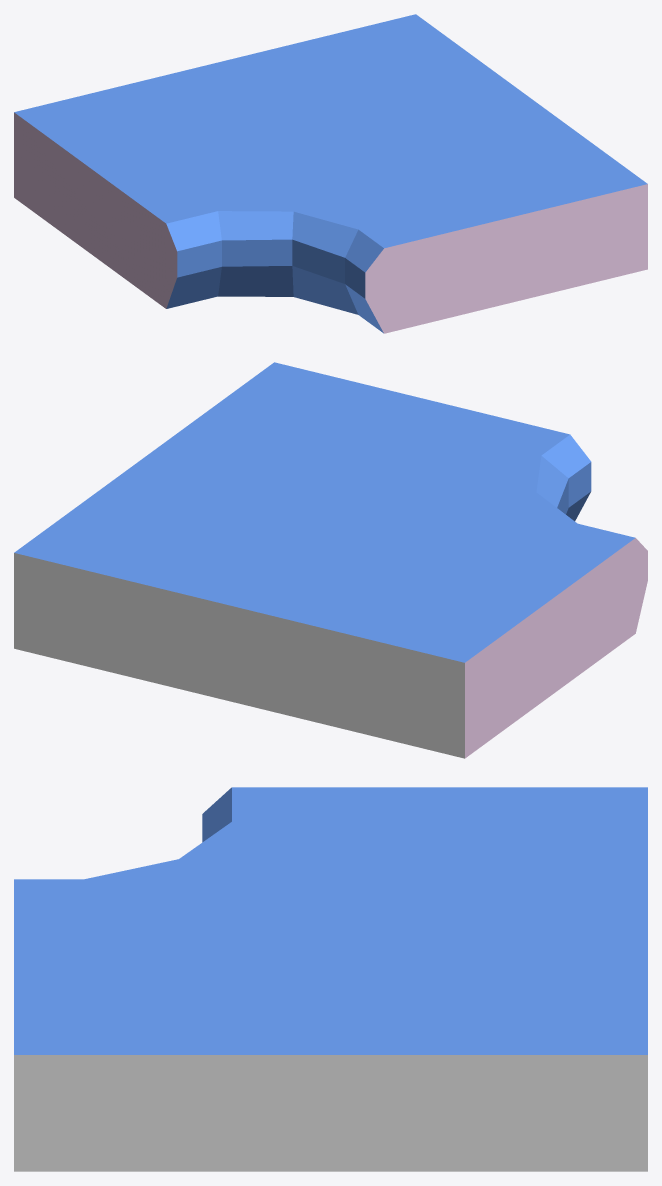
Rendered from Iceberg_Curve_Inner_2x2_1.fbx.
3 renders of one model, top to bottom at view 1: azimuth 30°, elevation 25°; view 2: azimuth 150°, elevation 25°; view 3: azimuth 270°, elevation 25°, orthographic. The views are drawn at different scales.
Parts seen in each view (by area): view 1: Iceberg_Curve_Inner_2x2_1; view 2: Iceberg_Curve_Inner_2x2_1; view 3: Iceberg_Curve_Inner_2x2_1.
Part boxes in pixels (x1,y1,x2,y2): Iceberg_Curve_Inner_2x2_1: (14,14,647,333); Iceberg_Curve_Inner_2x2_1: (14,362,647,758); Iceberg_Curve_Inner_2x2_1: (14,787,647,1171).
Size of the model in its own units: 200 by 40.63 by 200.
